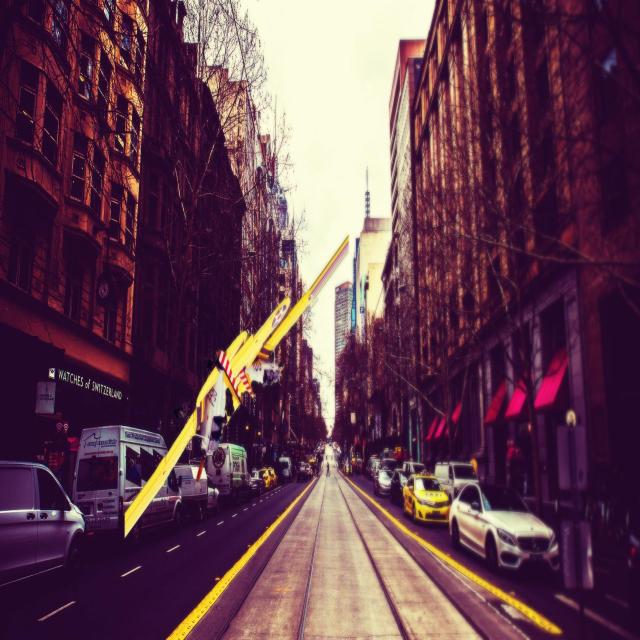airplane: (123, 233, 349, 543)
